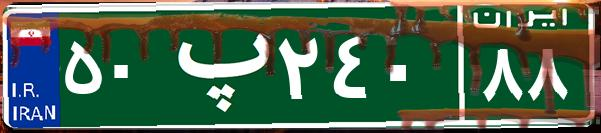0: (385, 28, 445, 110), (110, 28, 158, 105)
2: (273, 28, 330, 110)
4: (330, 28, 385, 110)
5: (57, 26, 110, 107)
8: (475, 38, 525, 113), (525, 38, 570, 115)
پ: (158, 15, 273, 115)
